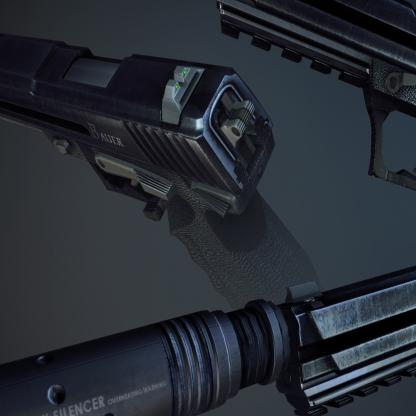gun: (0, 30, 329, 316), (199, 0, 415, 265), (286, 223, 415, 415)
